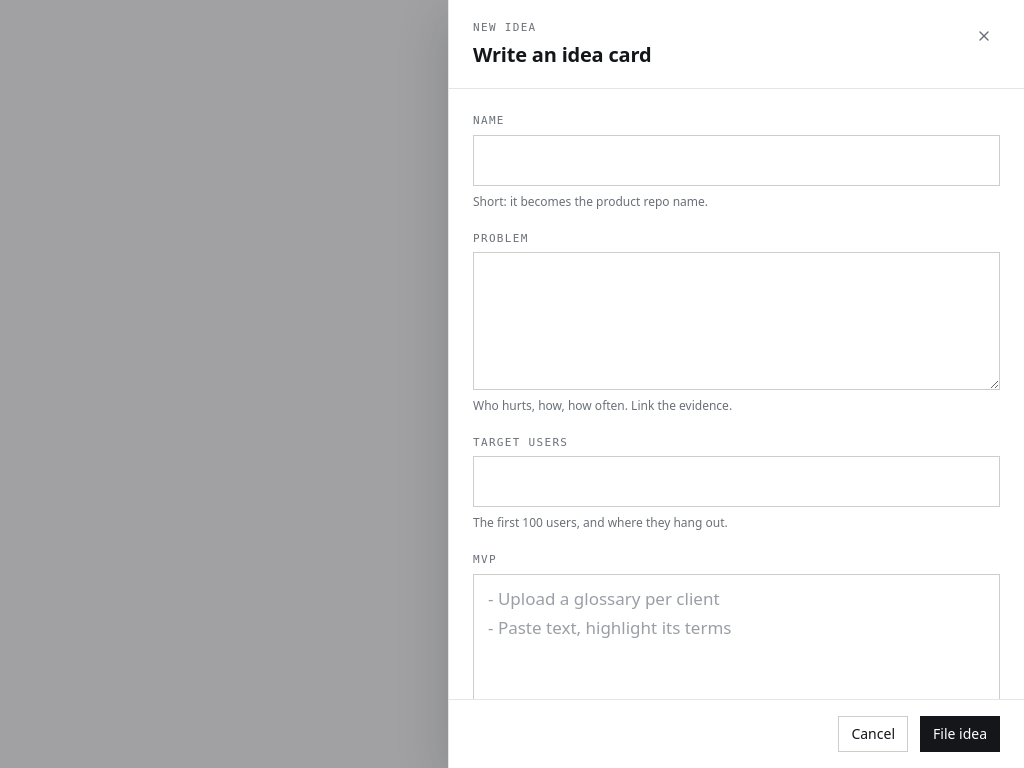
Test case: NewIdeaDrawer › points at the missing required fields instead of sending
Click the button "File idea" at x=960, y=734, box [920,716,1000,752]
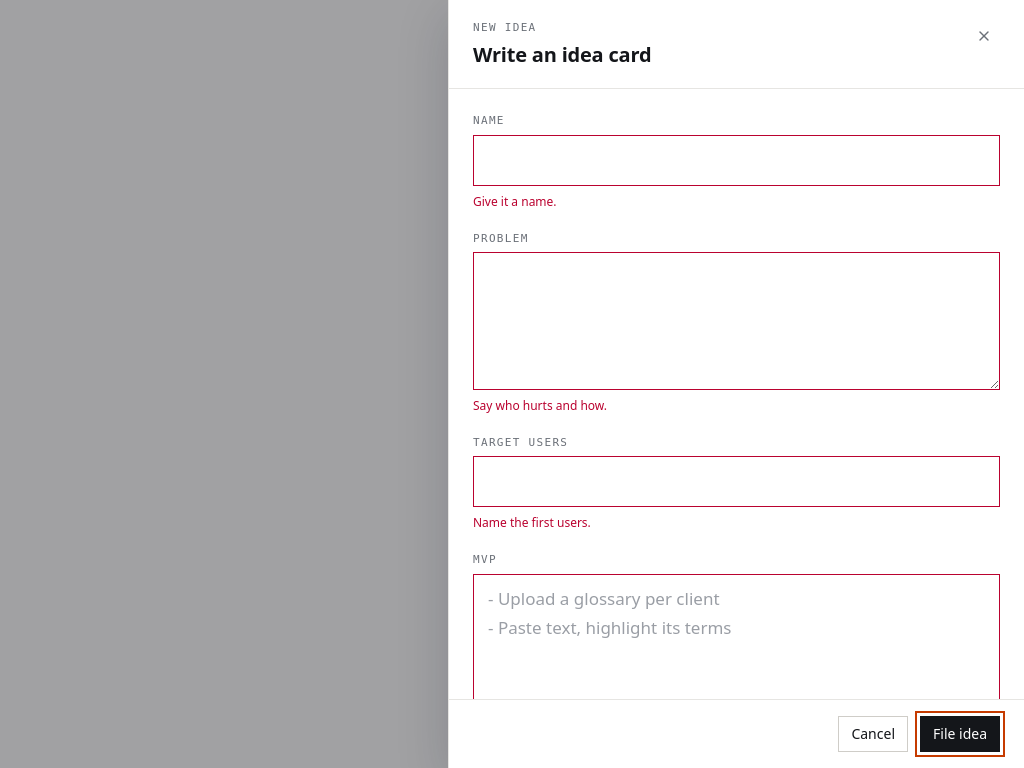
Result: the text "Give it a name." is shown at [473,193,557,210]
